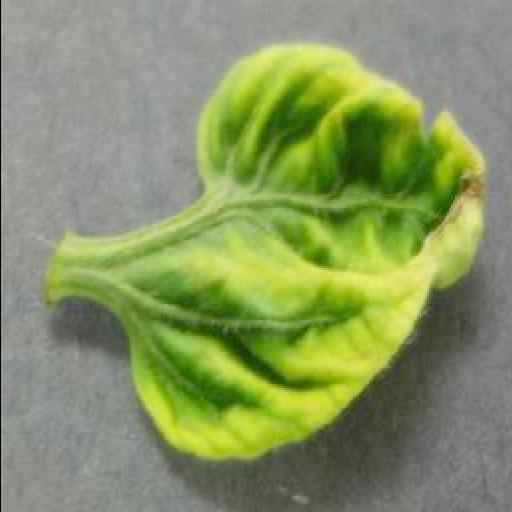disease_tomato: (126, 44, 486, 460)
